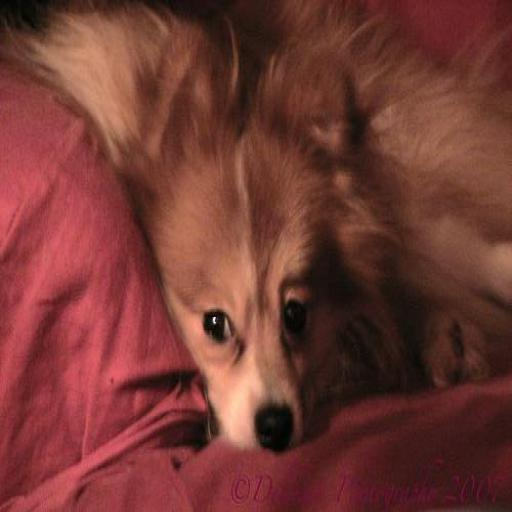dog_face: (91, 22, 368, 448)
